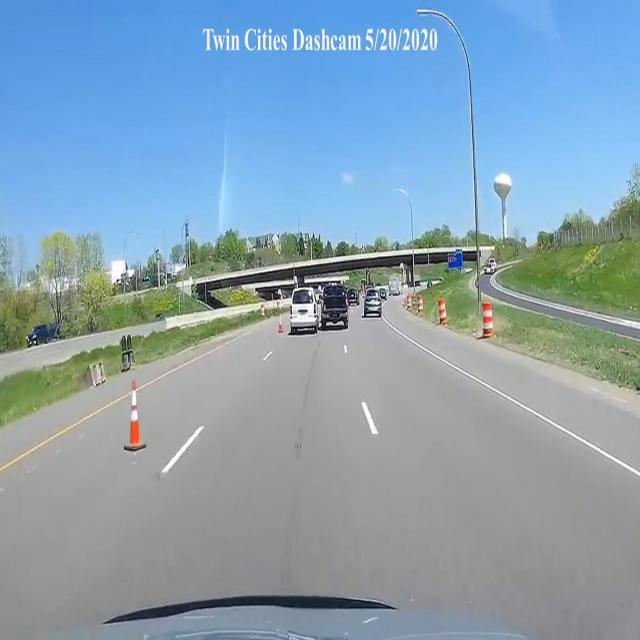cone: (124, 382, 148, 452), (278, 313, 284, 335)
